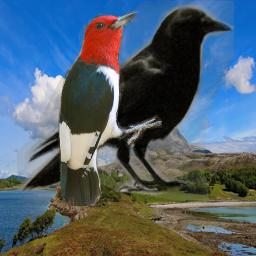Crow: (17, 1, 234, 200)
Woodpecker: (57, 11, 162, 206)
